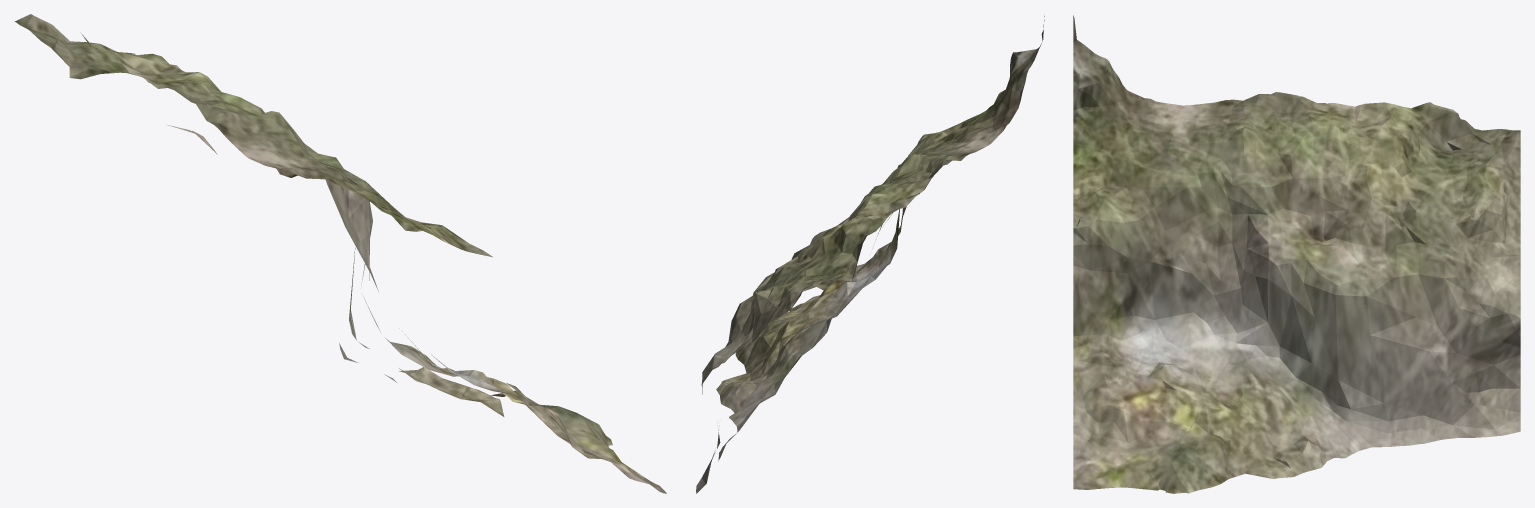
The picture shows the model from 3 angles, left to right: view 1: azimuth 30°, elevation 25°; view 2: azimuth 150°, elevation 25°; view 3: azimuth 270°, elevation 25°; orthographic projection. The views are drawn at different scales.
Size of the model in its own units: 1.96 by 2.58 by 2.95.
2 materials, 2 textured.
